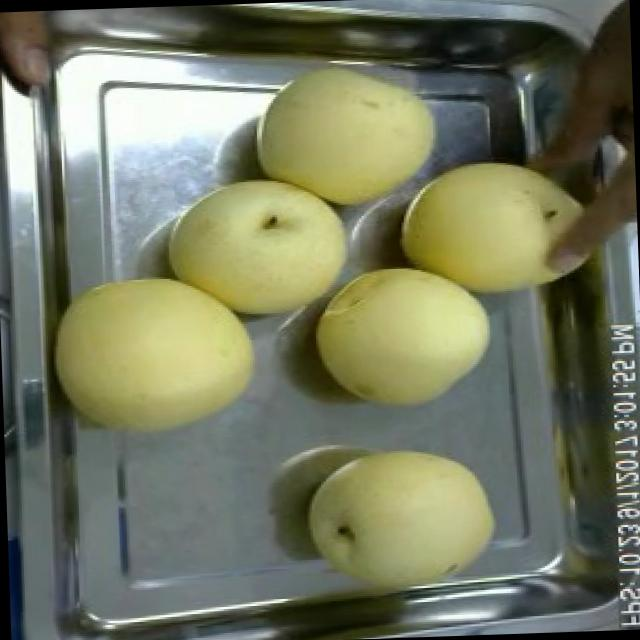Fruit: (41, 257, 274, 453), (292, 432, 512, 603), (388, 142, 606, 314), (246, 48, 458, 224), (158, 164, 362, 336), (306, 252, 507, 418), (0, 8, 69, 95)
